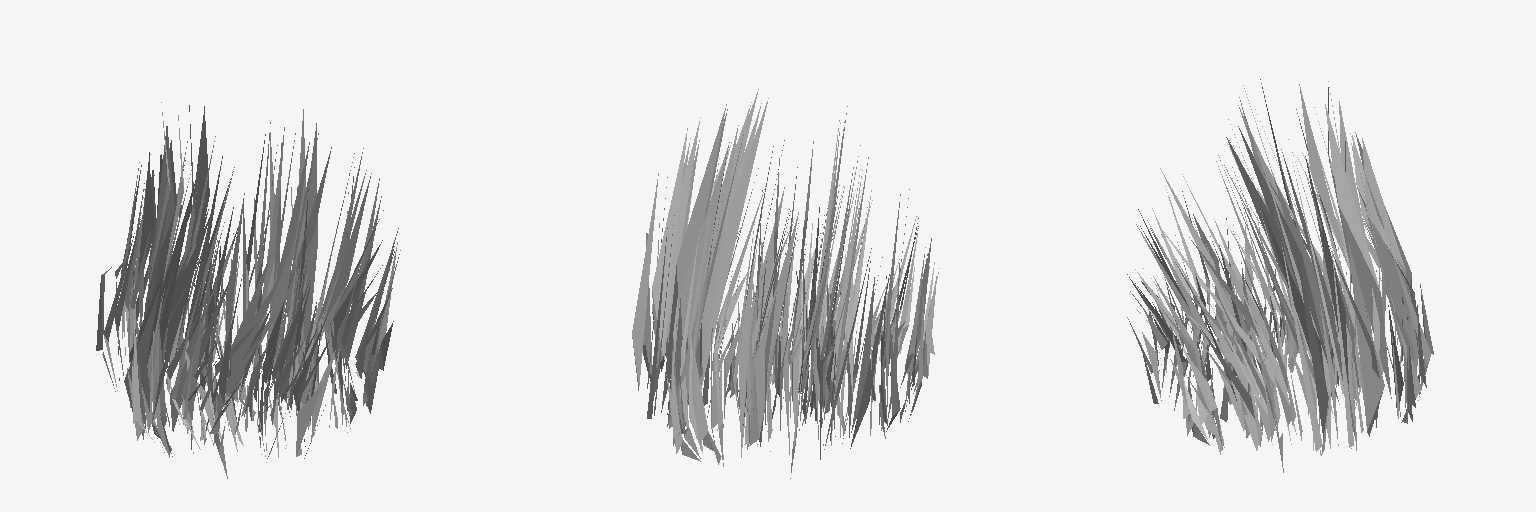
Rendered from aquaplant4.obj.
3 renders of one model, left to right at view 1: azimuth 30°, elevation 25°; view 2: azimuth 150°, elevation 25°; view 3: azimuth 270°, elevation 25°, orthographic.
Parts seen in each view (by area): view 1: aquatic11; view 2: aquatic11; view 3: aquatic11.
Part boxes in pixels (x1,y1,x2,y2): aquatic11: (96, 102, 400, 478); aquatic11: (632, 89, 939, 478); aquatic11: (1127, 79, 1433, 472).
Bounding box in the file's own units: 53.39 × 63.05 × 54.16.